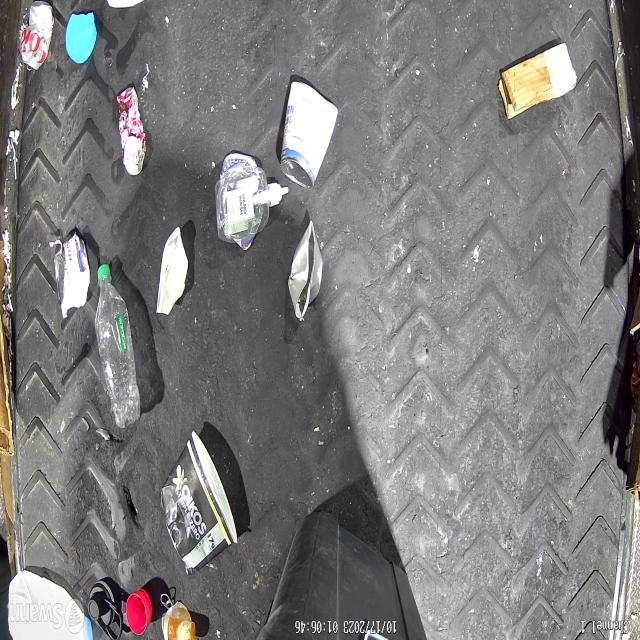can: (278, 80, 339, 190), (288, 220, 324, 322), (115, 86, 146, 176), (16, 0, 54, 73), (56, 234, 90, 310)
milk_jug: (9, 570, 93, 640)
plastic_bottle: (94, 264, 140, 430)
